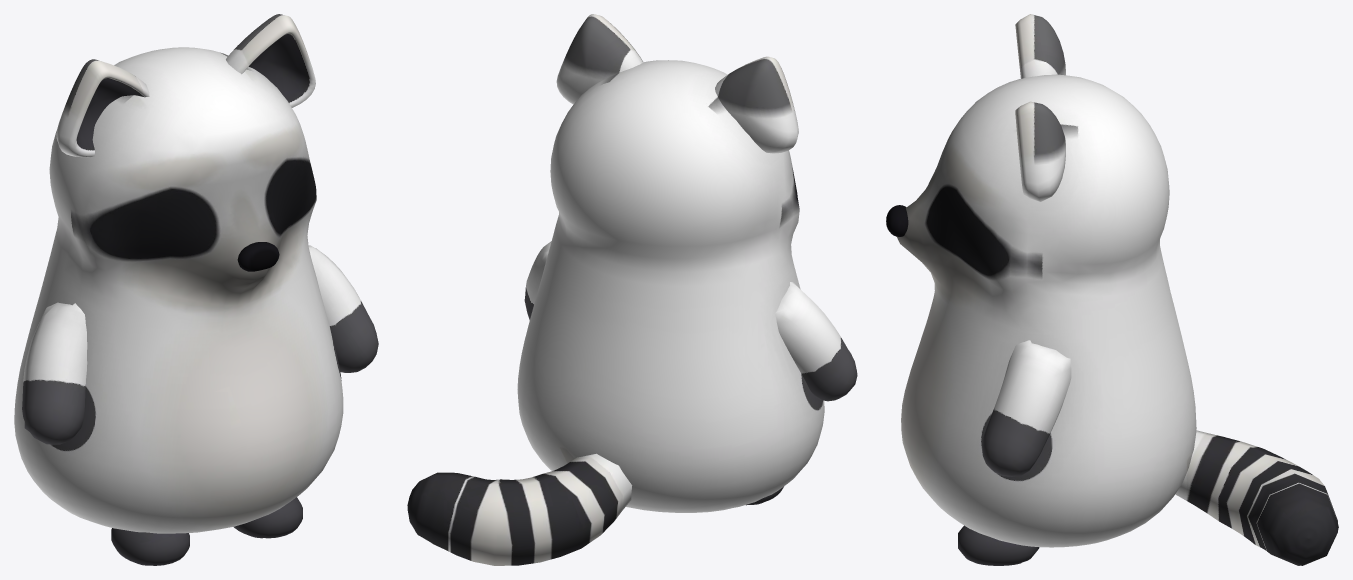
The model's file is mapache.glb.
3 renders of one model, left to right at view 1: azimuth 30°, elevation 25°; view 2: azimuth 150°, elevation 25°; view 3: azimuth 270°, elevation 25°, orthographic. The views are drawn at different scales.
Visible parts, largest first — view 1: cuerpo, brazoI, orejaD, orejaI, brazoD, cabeza; view 2: cuerpo, brazoI, orejaI, orejaD, brazoD; view 3: cuerpo, brazoD, orejaD, orejaI, cabeza.
Boxes of the visible parts, left/top/right/bottom form: cuerpo: left=14, top=47, right=343, bottom=565; brazoI: left=22, top=302, right=87, bottom=444; orejaD: left=226, top=14, right=315, bottom=107; orejaI: left=56, top=59, right=149, bottom=157; brazoD: left=308, top=245, right=378, bottom=372; cabeza: left=237, top=242, right=279, bottom=271; cuerpo: left=407, top=60, right=824, bottom=565; brazoI: left=775, top=282, right=857, bottom=401; orejaI: left=715, top=56, right=798, bottom=153; orejaD: left=556, top=14, right=643, bottom=104; brazoD: left=524, top=241, right=551, bottom=319; cuerpo: left=897, top=74, right=1338, bottom=565; brazoD: left=982, top=340, right=1071, bottom=476; orejaD: left=1015, top=101, right=1065, bottom=201; orejaI: left=1015, top=14, right=1065, bottom=78; cabeza: left=886, top=205, right=908, bottom=236.
Bounding box in the file's own units: 1.85 × 2.49 × 2.16.
4 materials, 4 textured.
